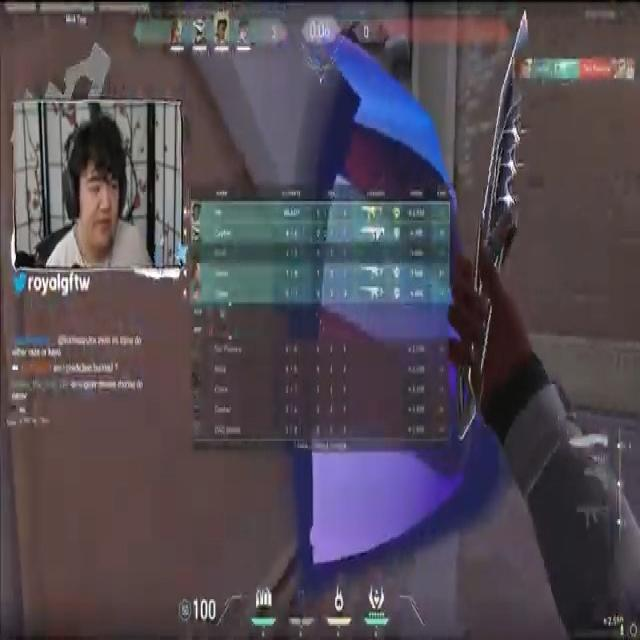smoke: (314, 26, 471, 556)
